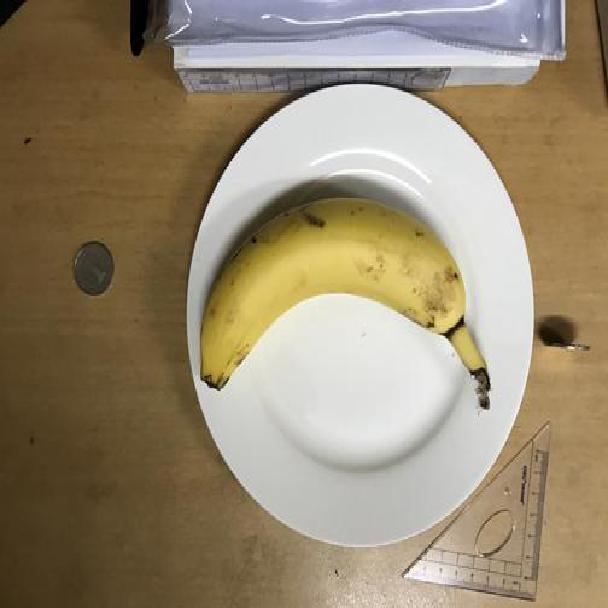banana: (190, 197, 501, 414)
